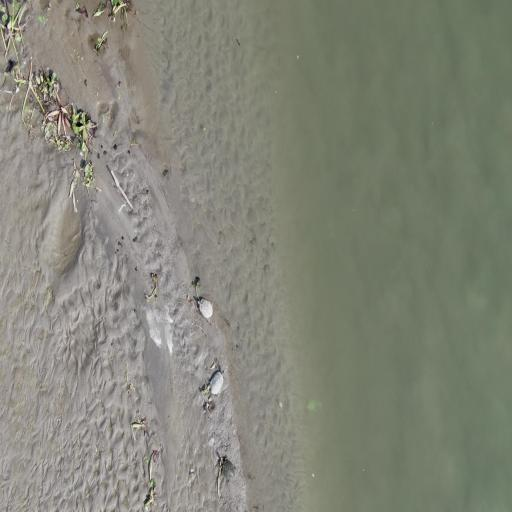turtle: (218, 455, 238, 483), (209, 364, 226, 396), (196, 297, 214, 321)
